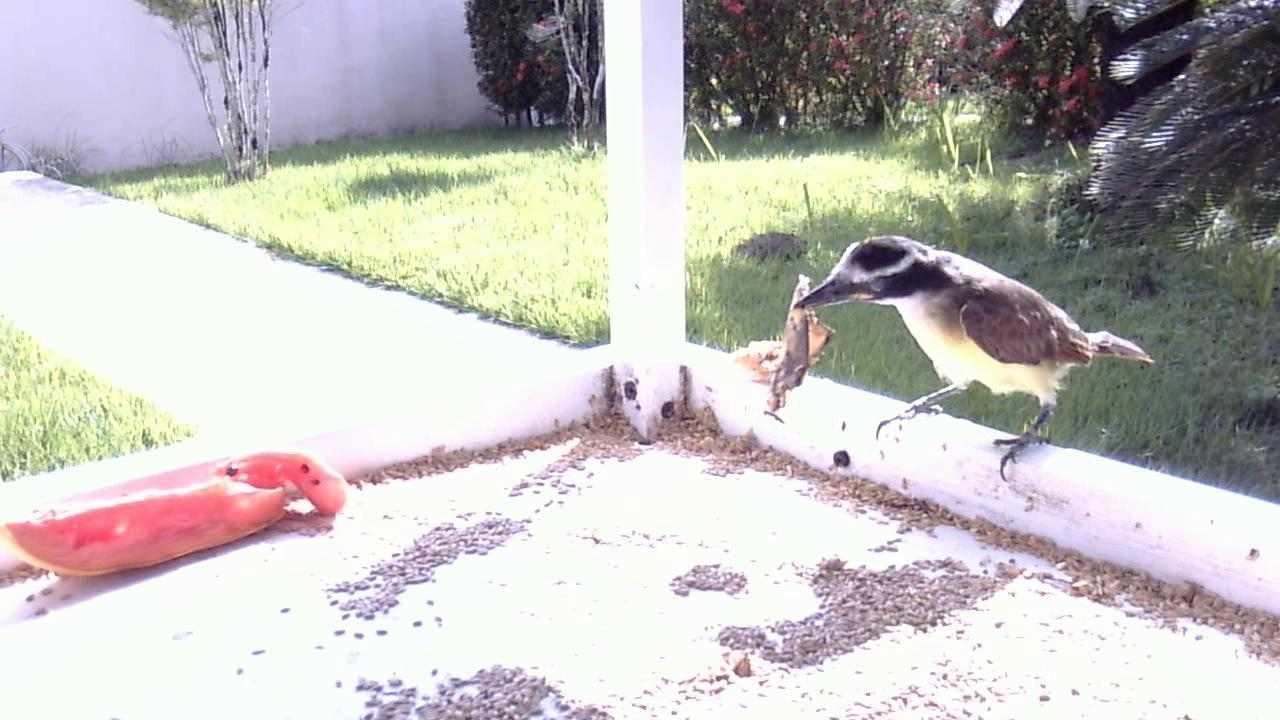bem_te_vi: (760, 225, 1165, 494)
